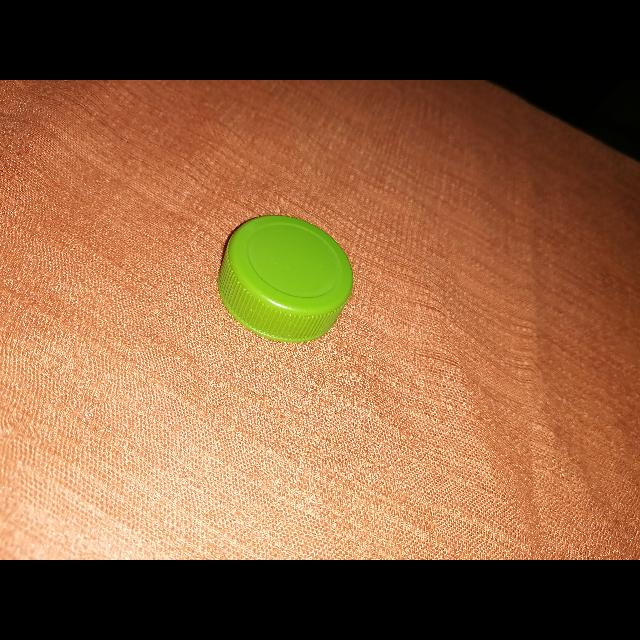plastic_bottle_cap: (217, 215, 353, 342)
